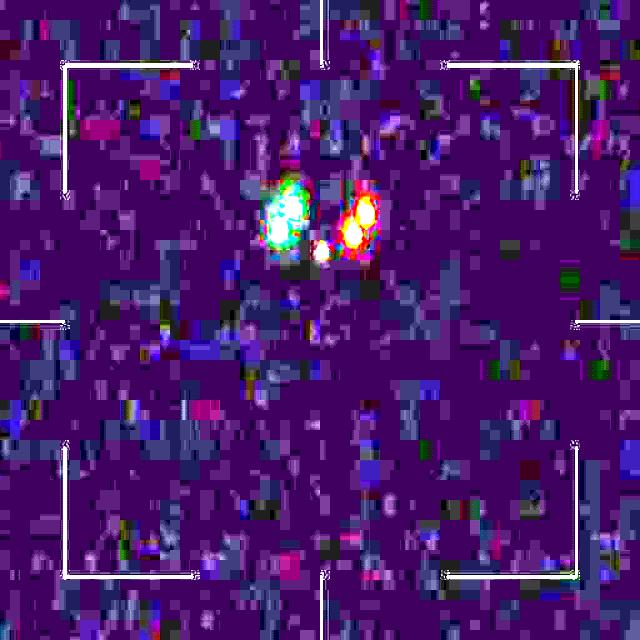bird: (269, 191, 376, 260)
